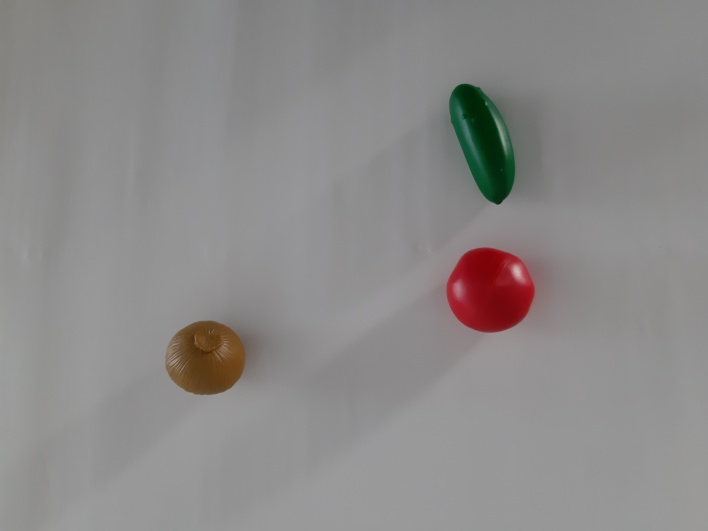cucumber: (426, 71, 537, 226)
onion: (143, 302, 267, 415)
tomato: (430, 239, 552, 351)
